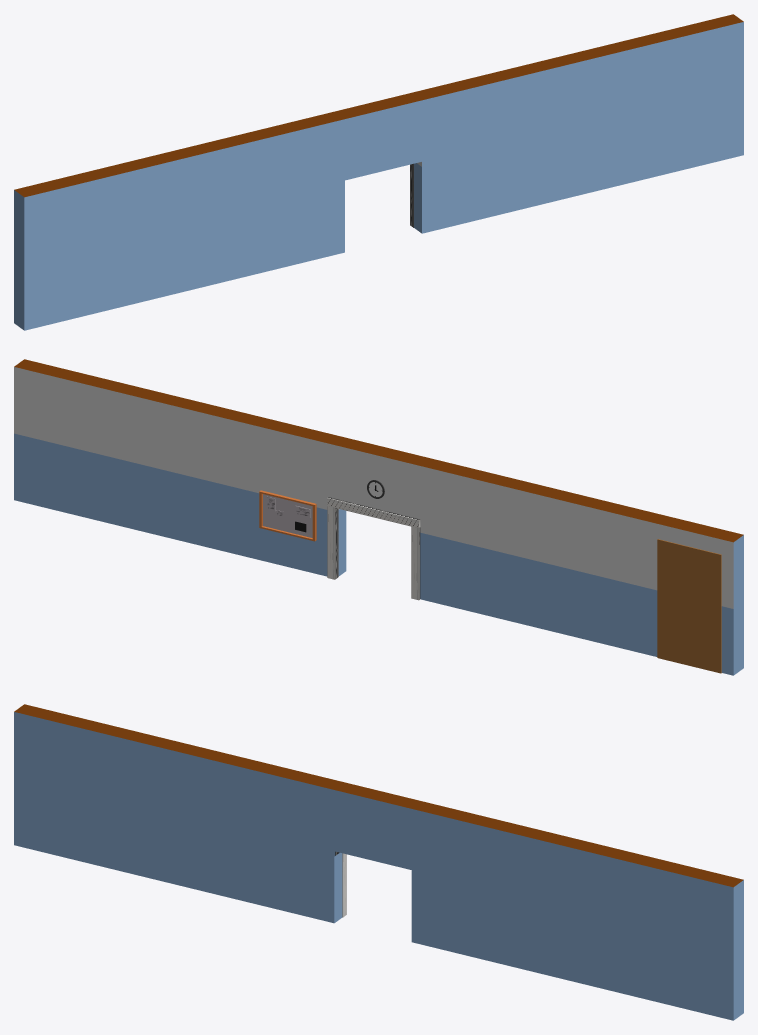
File: OF_FrontWall.fbx
3 views of the same model, one above another, from view 1: azimuth 30°, elevation 25°; view 2: azimuth 150°, elevation 25°; view 3: azimuth 330°, elevation 25° (orthographic).
Visible parts, largest first — view 1: ParedSalida; view 2: ParedSalida; view 3: ParedSalida.
Part boxes in pixels (x1,y1,x2,y2): ParedSalida: [14, 14, 743, 330]; ParedSalida: [14, 359, 743, 675]; ParedSalida: [14, 704, 743, 1020].
Size of the model in its own units: 2200 by 390 by 64.07.
13 materials, 5 textured.
